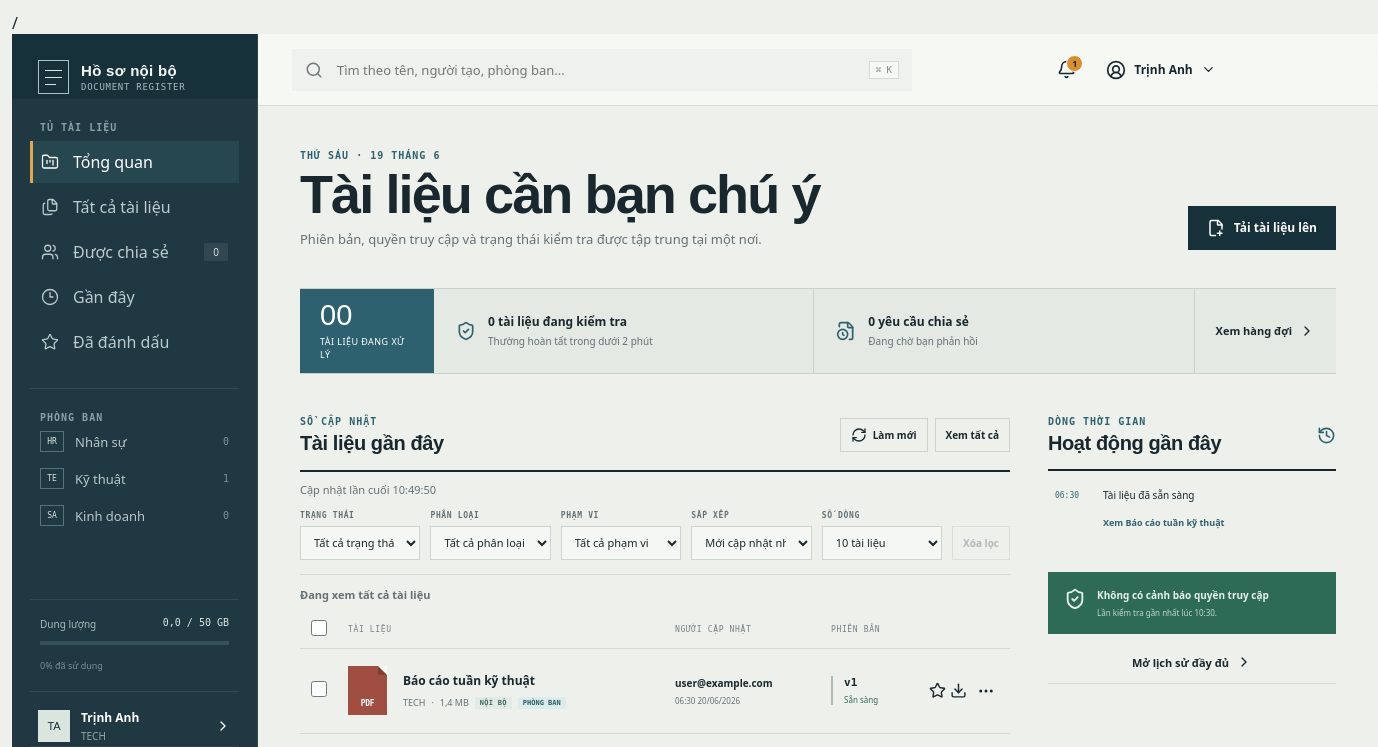
Test case: App › làm mới danh sách tài liệu thủ công
The width and height of the screenshot is (1378, 747).
Expected: the button "Báo cáo tuần kỹ thuật" is shown, 403,672 -> 535,689
Click the button "Làm mới" at (884, 435), box 840,418 -> 928,452
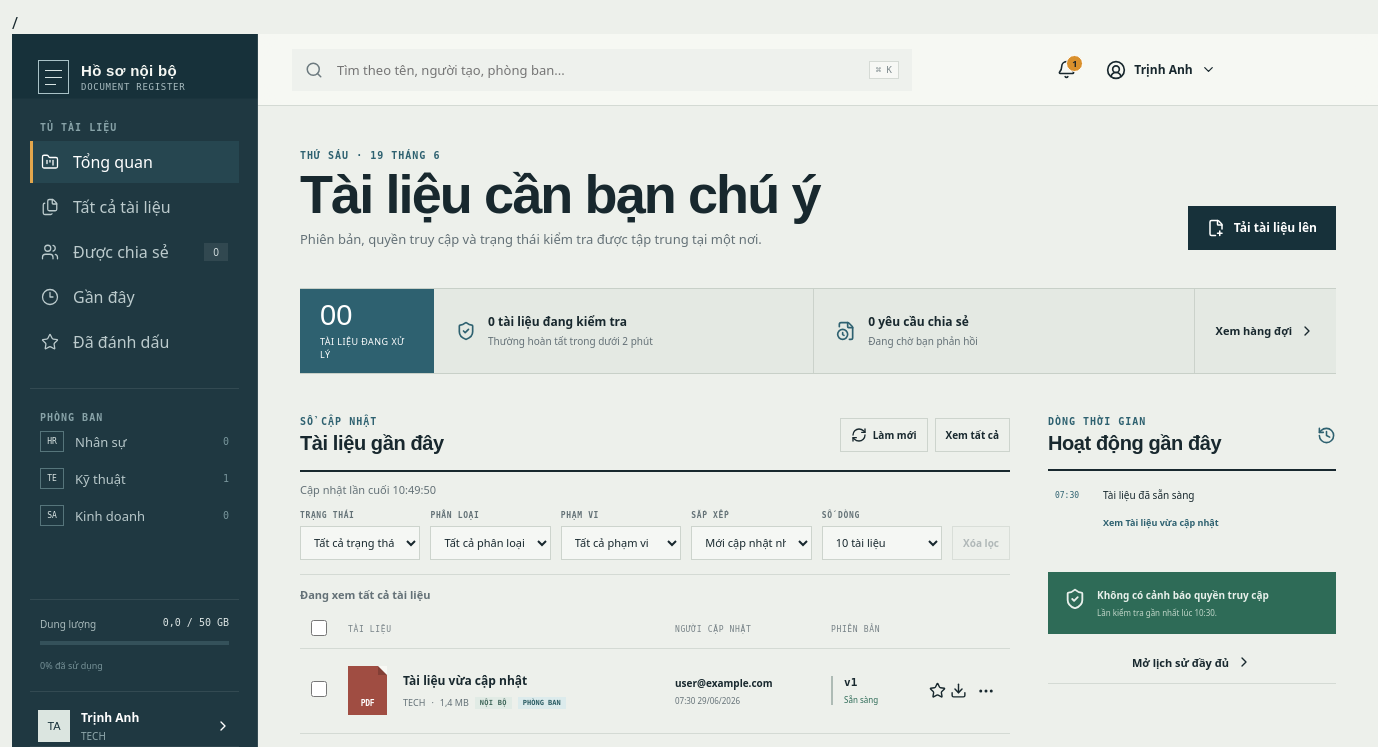
Expected: the button "Tài liệu vừa cập nhật" is shown, 403,672 -> 527,689
Expected: the button "Báo cáo tuần kỹ thuật" is gone
